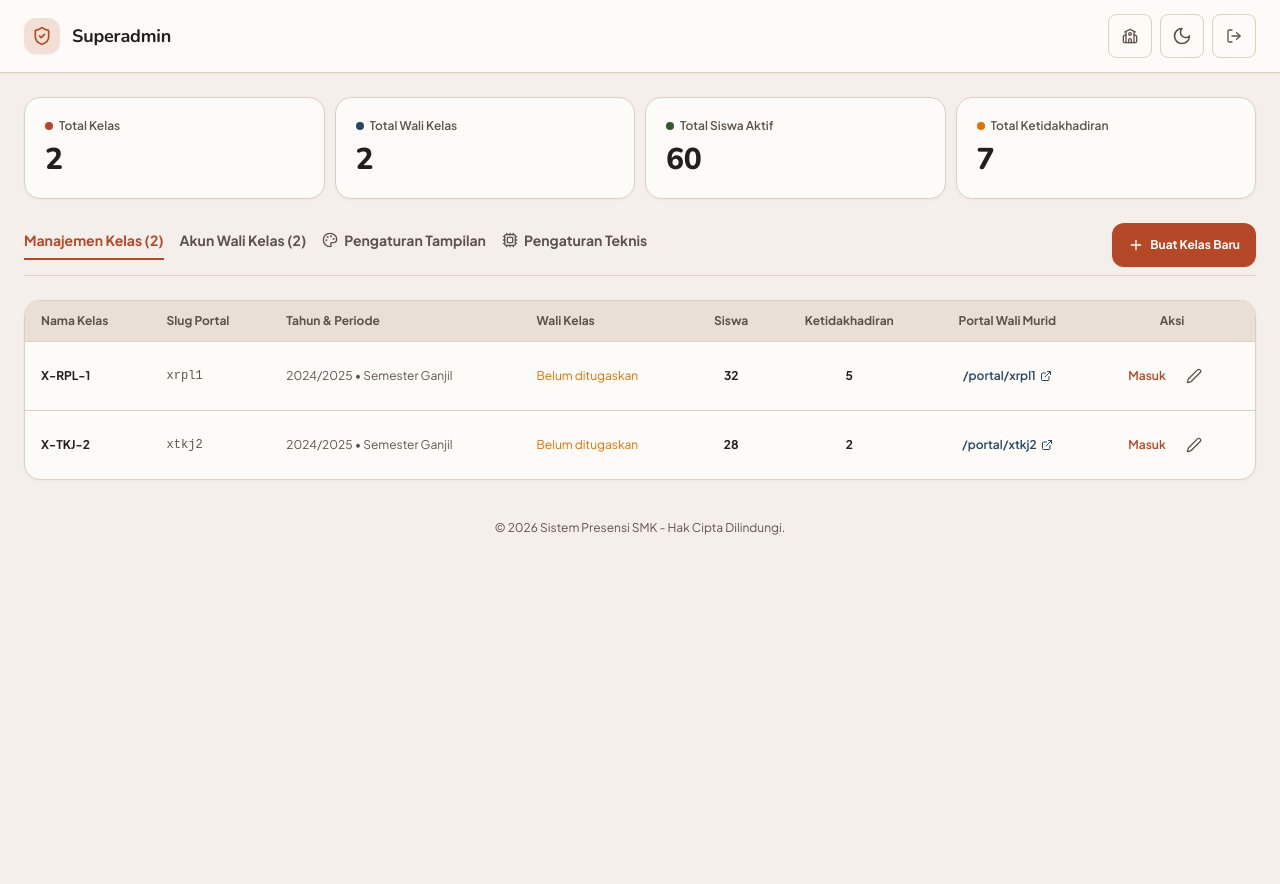
AdminClient Empirical Verification (R1 - R6) › R6: Admin Navigation & Settings UI/UX Refactor › renames tab to 'Pengaturan Tampilan' and removes AI-slop badges from theme cards
// Switch to Pengaturan Tampilan
Click the button "Pengaturan Tampilan" at (404, 245), box top-left (322, 230), bottom-right (486, 260)
(page scrolled)
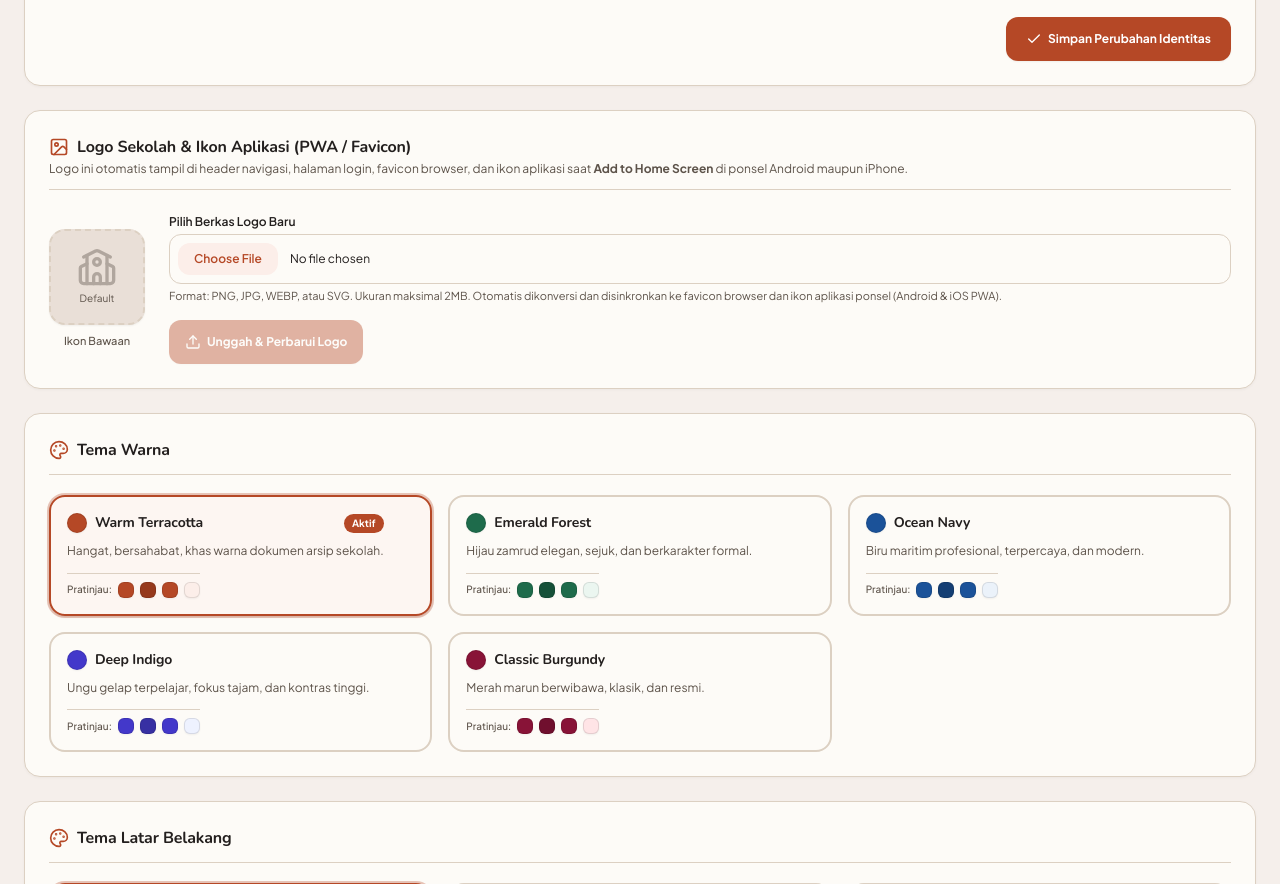
Expected: the heading "Tema Warna" is shown, top-left (49, 439), bottom-right (170, 461)
